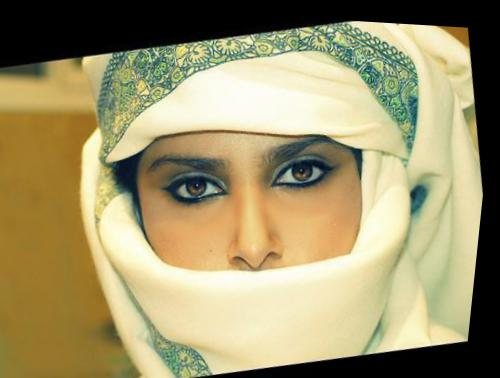WRONG: (104, 62, 416, 377)
